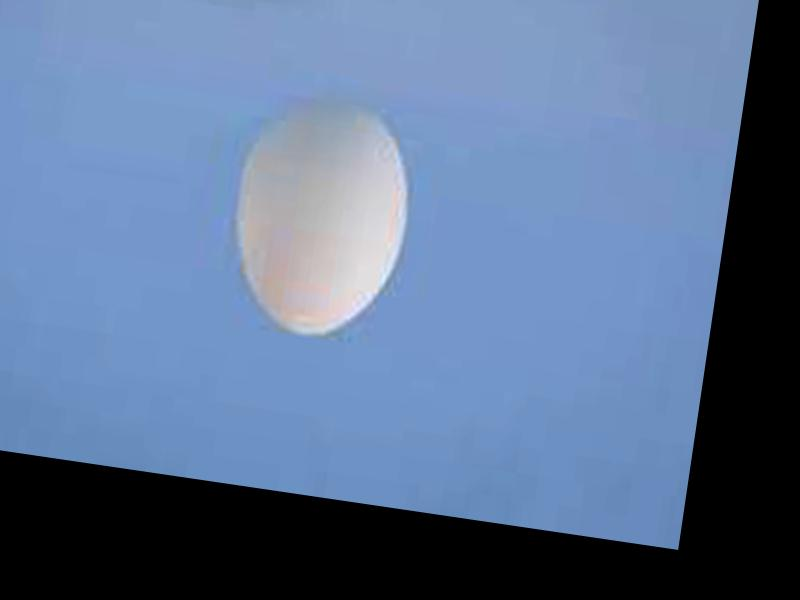Eggs: (218, 85, 422, 347)
